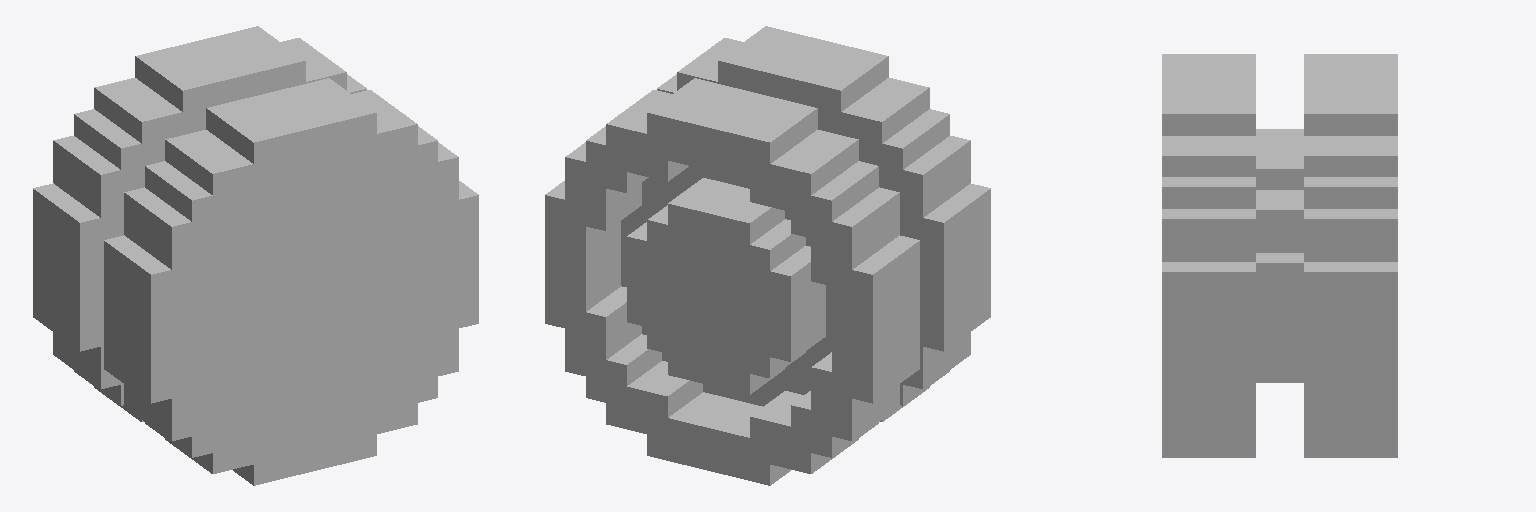
Rendered from Bot -8.obj.
The picture shows the model from 3 angles: view 1: azimuth 30°, elevation 25°; view 2: azimuth 150°, elevation 25°; view 3: azimuth 270°, elevation 25°; orthographic projection.
Visible parts, largest first — view 1: Bot -8; view 2: Bot -8; view 3: Bot -8.
Boxes of the visible parts, <box> form: Bot -8: <box>33,26,478,485</box>; Bot -8: <box>545,26,990,485</box>; Bot -8: <box>1162,54,1397,457</box>.
Bounding box in the file's own units: 16 × 16 × 10.